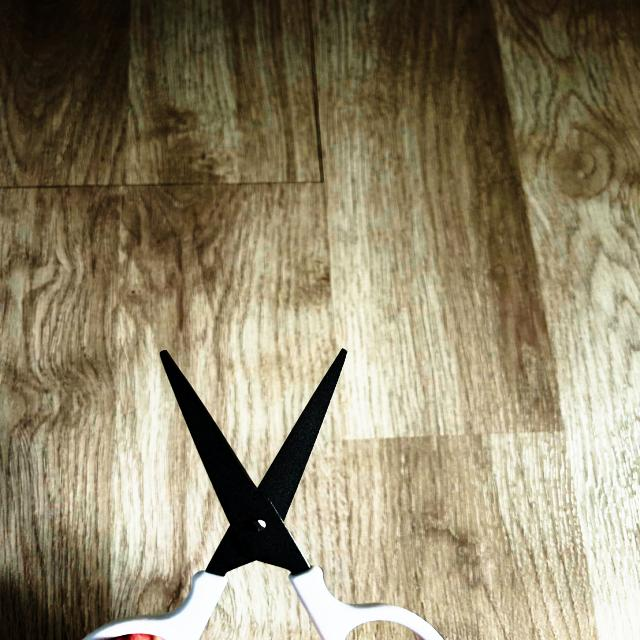Scissors: (94, 350, 440, 640)
